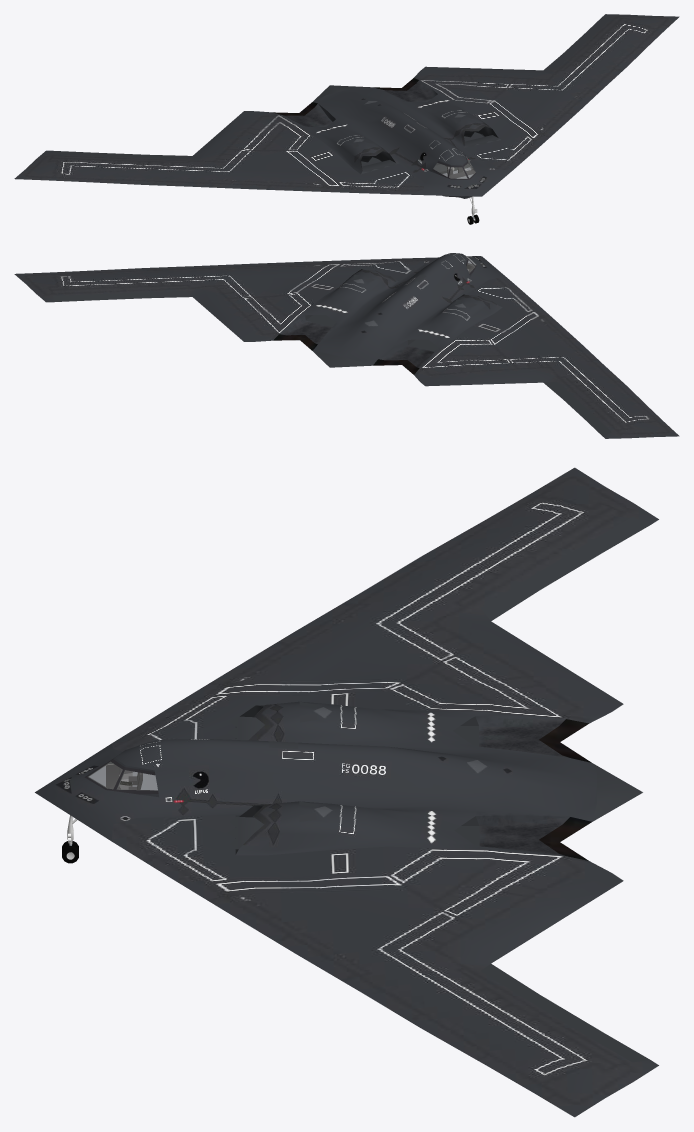
The model's file is bomber_b2.glb.
3 views of the same model, one above another, from view 1: azimuth 30°, elevation 25°; view 2: azimuth 150°, elevation 25°; view 3: azimuth 270°, elevation 25° (orthographic). The views are drawn at different scales.
Visible parts, largest first — view 1: left_aileron; view 2: left_aileron; view 3: left_aileron.
Boxes of the visible parts, box(x1,y1,x2,y2) form: left_aileron: box(14, 14, 679, 224); left_aileron: box(14, 253, 679, 438); left_aileron: box(35, 467, 658, 1117).
Size of the model in its own units: 51.69 by 4.37 by 21.
13 materials, 5 textured.
